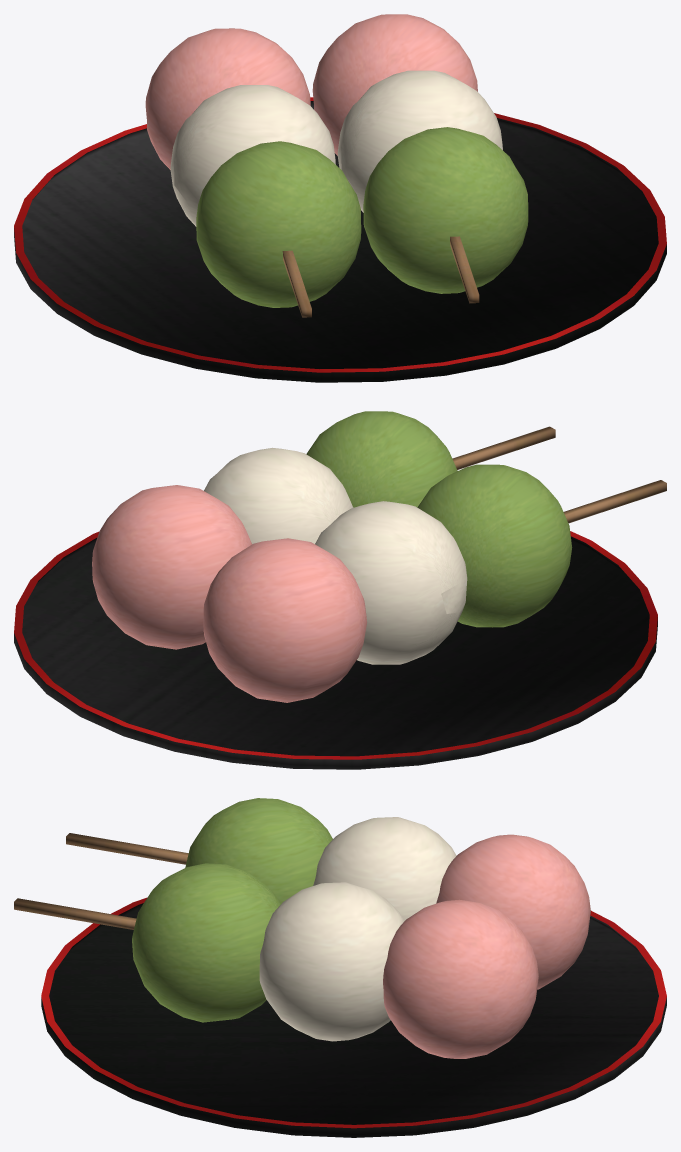
Rendered from Dango1.a.fbx.
3 renders of one model, top to bottom at view 1: azimuth 30°, elevation 25°; view 2: azimuth 150°, elevation 25°; view 3: azimuth 270°, elevation 25°, orthographic. The views are drawn at different scales.
Visible parts, largest first — view 1: Group 0; view 2: Group 0; view 3: Group 0.
Boxes of the visible parts, x1=… form: Group 0: x1=14, y1=14, x2=666, y2=382; Group 0: x1=14, y1=411, x2=666, y2=769; Group 0: x1=14, y1=798, x2=666, y2=1137.
Size of the model in its own units: 17.58 by 4.64 by 18.34.
Materials: 1 (1 with a texture image).
